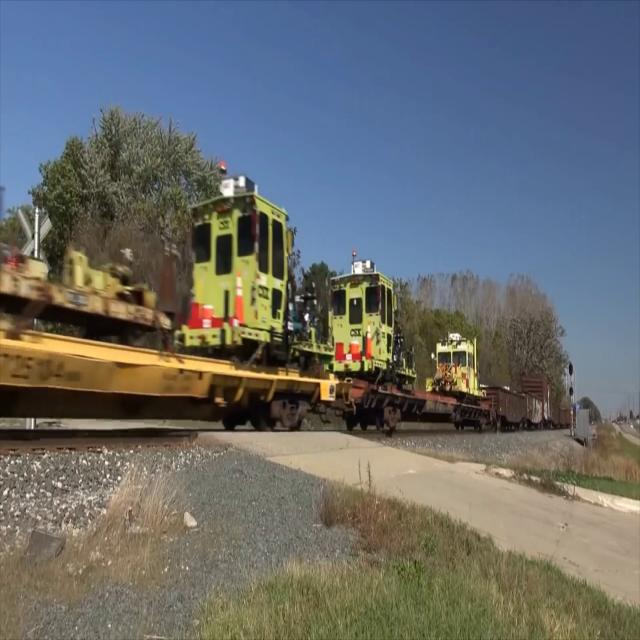cargo: (172, 164, 338, 368), (0, 229, 173, 348), (328, 257, 418, 387), (423, 328, 489, 403)
flatcar: (0, 317, 340, 449), (345, 373, 495, 439)
